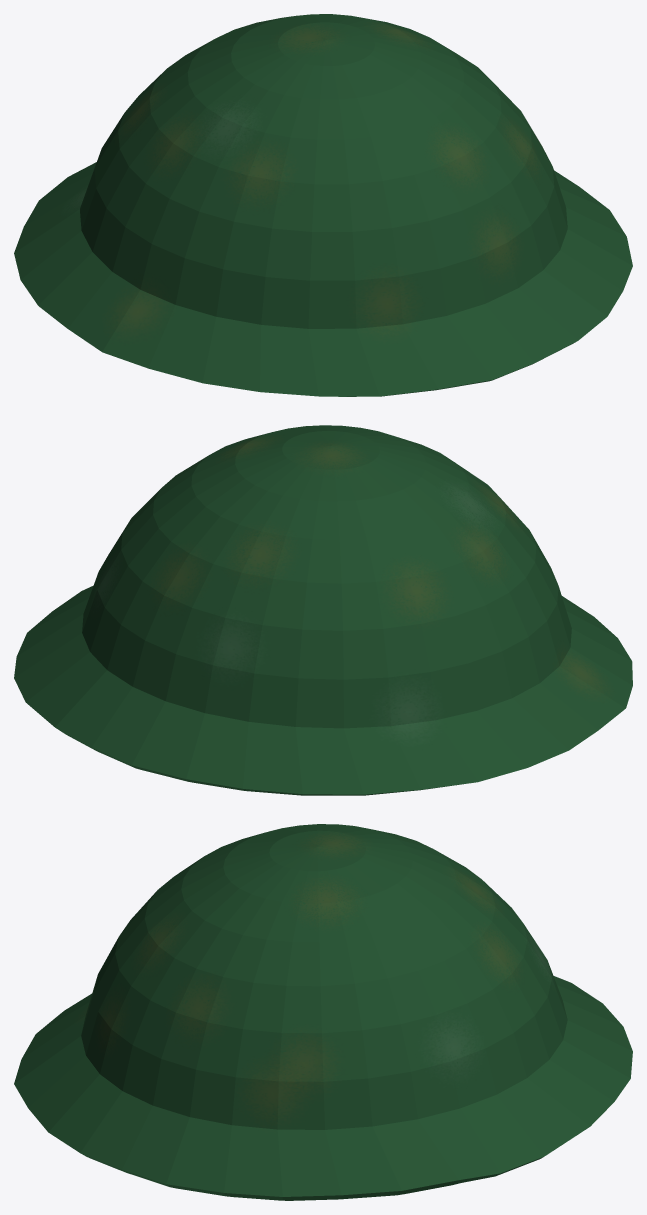
Rendered from Lowpolybritishtommy.fbx.
3 renders of one model, top to bottom at view 1: azimuth 30°, elevation 25°; view 2: azimuth 150°, elevation 25°; view 3: azimuth 270°, elevation 25°, orthographic.
Parts seen in each view (by area): view 1: node_id3; view 2: node_id3; view 3: node_id3.
Part boxes in pixels (left/top/right/bottom): node_id3: left=14, top=14, right=632, bottom=396; node_id3: left=14, top=425, right=632, bottom=795; node_id3: left=14, top=824, right=632, bottom=1200.
Bounding box in the file's own units: 0.5055 × 0.2144 × 0.5149.
1 material, 1 textured.
